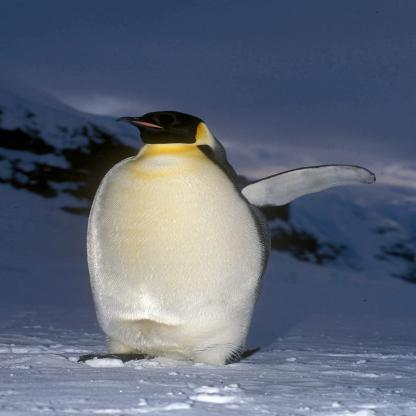Penguin: (61, 97, 377, 367)
